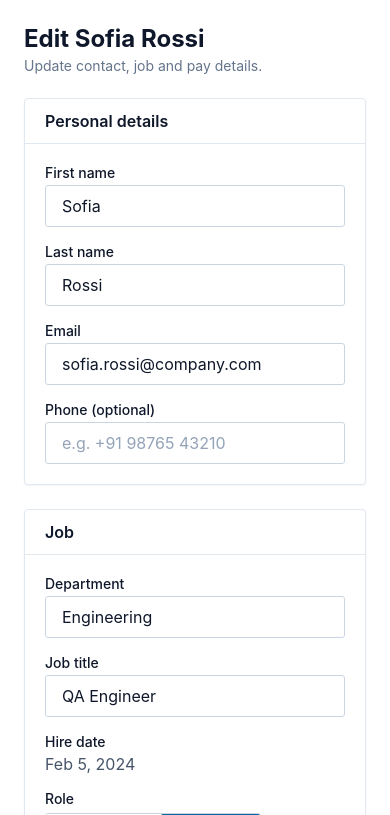
Scenario: EmployeeForm when editing › checks only the email when the field loses focus
This screenshot has width=390, height=815.
Step 1. Replace the text in the field named "Email" with "priya.sharma@company.com" → (195, 364), box [45,343,345,385]
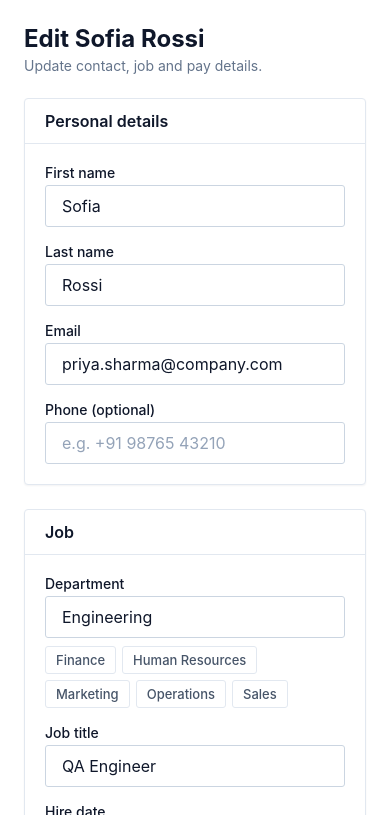
Step 2. Leave the field named "Email", box [45,343,345,385]
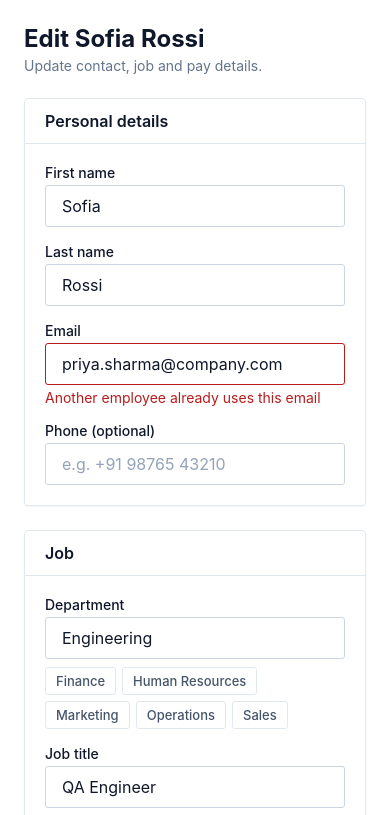
Result: the text "Another employee already uses this email" is shown at [45,389,345,406]
